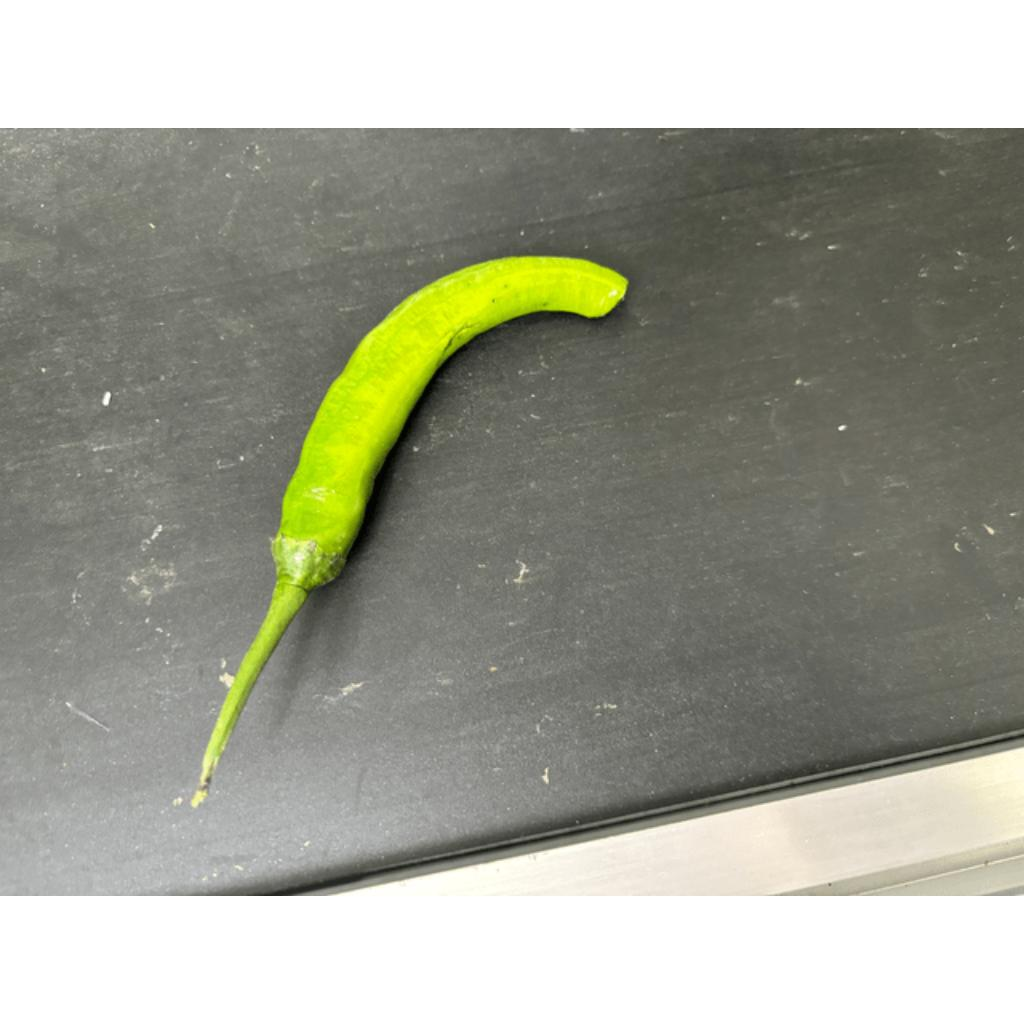chili: (267, 253, 634, 592)
